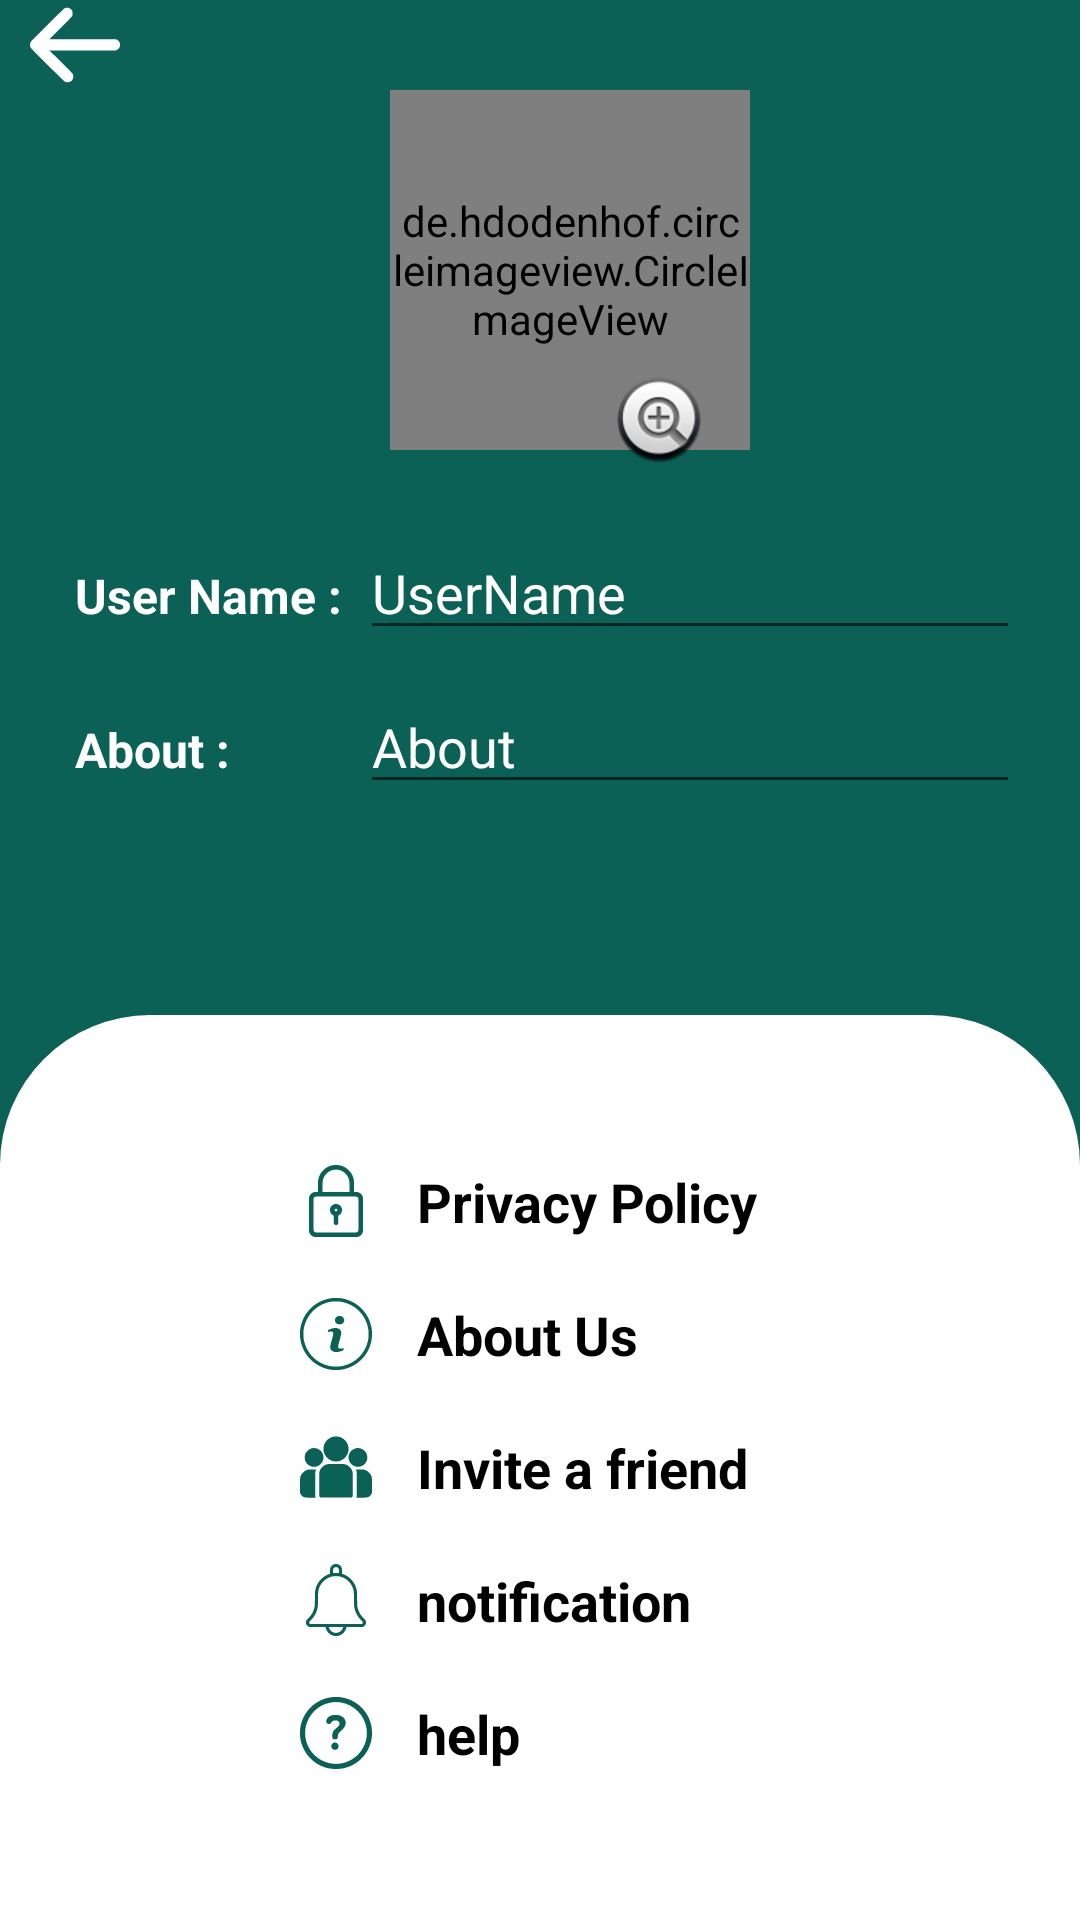

Named icons in this screenshot (1080px×1920px) and their centers, [x,y]:
arrow left: [75,45]
plus: [682,404]
